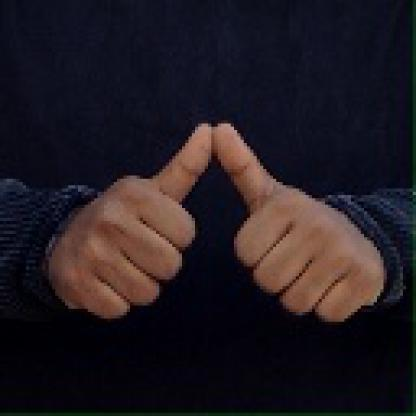A: (51, 118, 386, 328)
